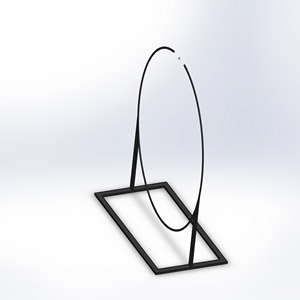circle: (93, 45, 228, 275)
